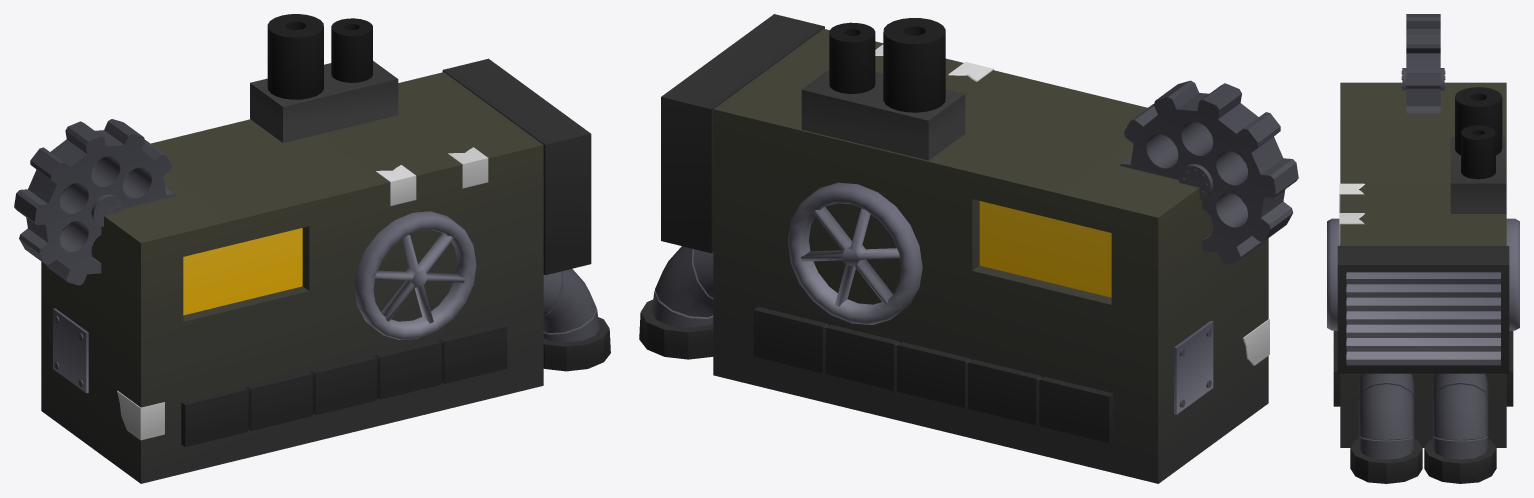
Rendered from small_generator.FBX.
3 views of the same model, side by side, from view 1: azimuth 30°, elevation 25°; view 2: azimuth 150°, elevation 25°; view 3: azimuth 270°, elevation 25° (orthographic). The views are drawn at different scales.
Parts seen in each view (by area): view 1: Small Generator, Object001; view 2: Small Generator, Object001; view 3: Small Generator, Object001.
Boxes of the visible parts, x1,y1,x2,y2 form: Small Generator: (41, 14, 610, 483); Object001: (14, 119, 175, 285); Small Generator: (639, 14, 1269, 483); Object001: (1120, 80, 1298, 264); Small Generator: (1327, 68, 1519, 483); Object001: (1406, 14, 1440, 113).
Bounding box in the file's own units: 485 × 282 × 174.
1 material, 1 textured.
